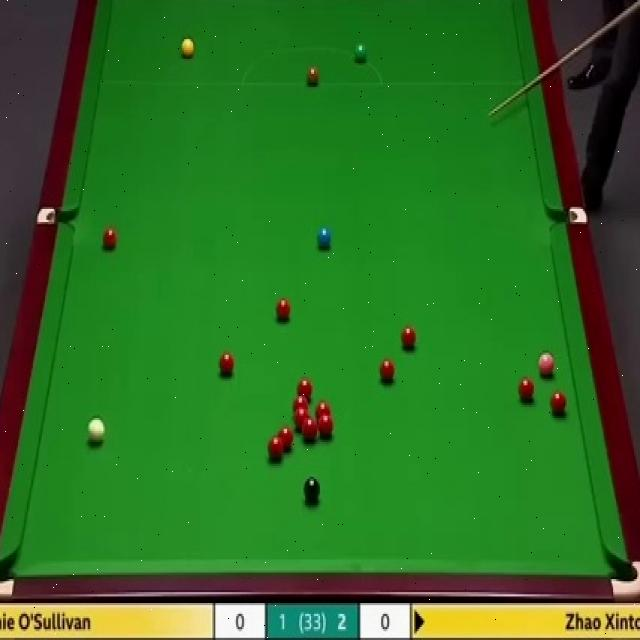black-ball: (303, 474, 321, 506)
blue-ball: (316, 226, 333, 248)
brown-ball: (306, 65, 320, 87)
green-ball: (353, 43, 368, 64)
pink-ball: (538, 351, 555, 378)
red-ball: (218, 350, 236, 380), (266, 436, 284, 463), (278, 428, 296, 455), (520, 377, 538, 403), (317, 414, 334, 441), (378, 358, 395, 385), (550, 391, 568, 416), (402, 324, 418, 351), (102, 228, 120, 250), (275, 299, 292, 322), (303, 417, 317, 441), (296, 378, 314, 396), (294, 409, 309, 429), (293, 394, 308, 412), (316, 403, 330, 418)
white-ball: (86, 418, 108, 447)
yellow-ball: (181, 38, 196, 61)
